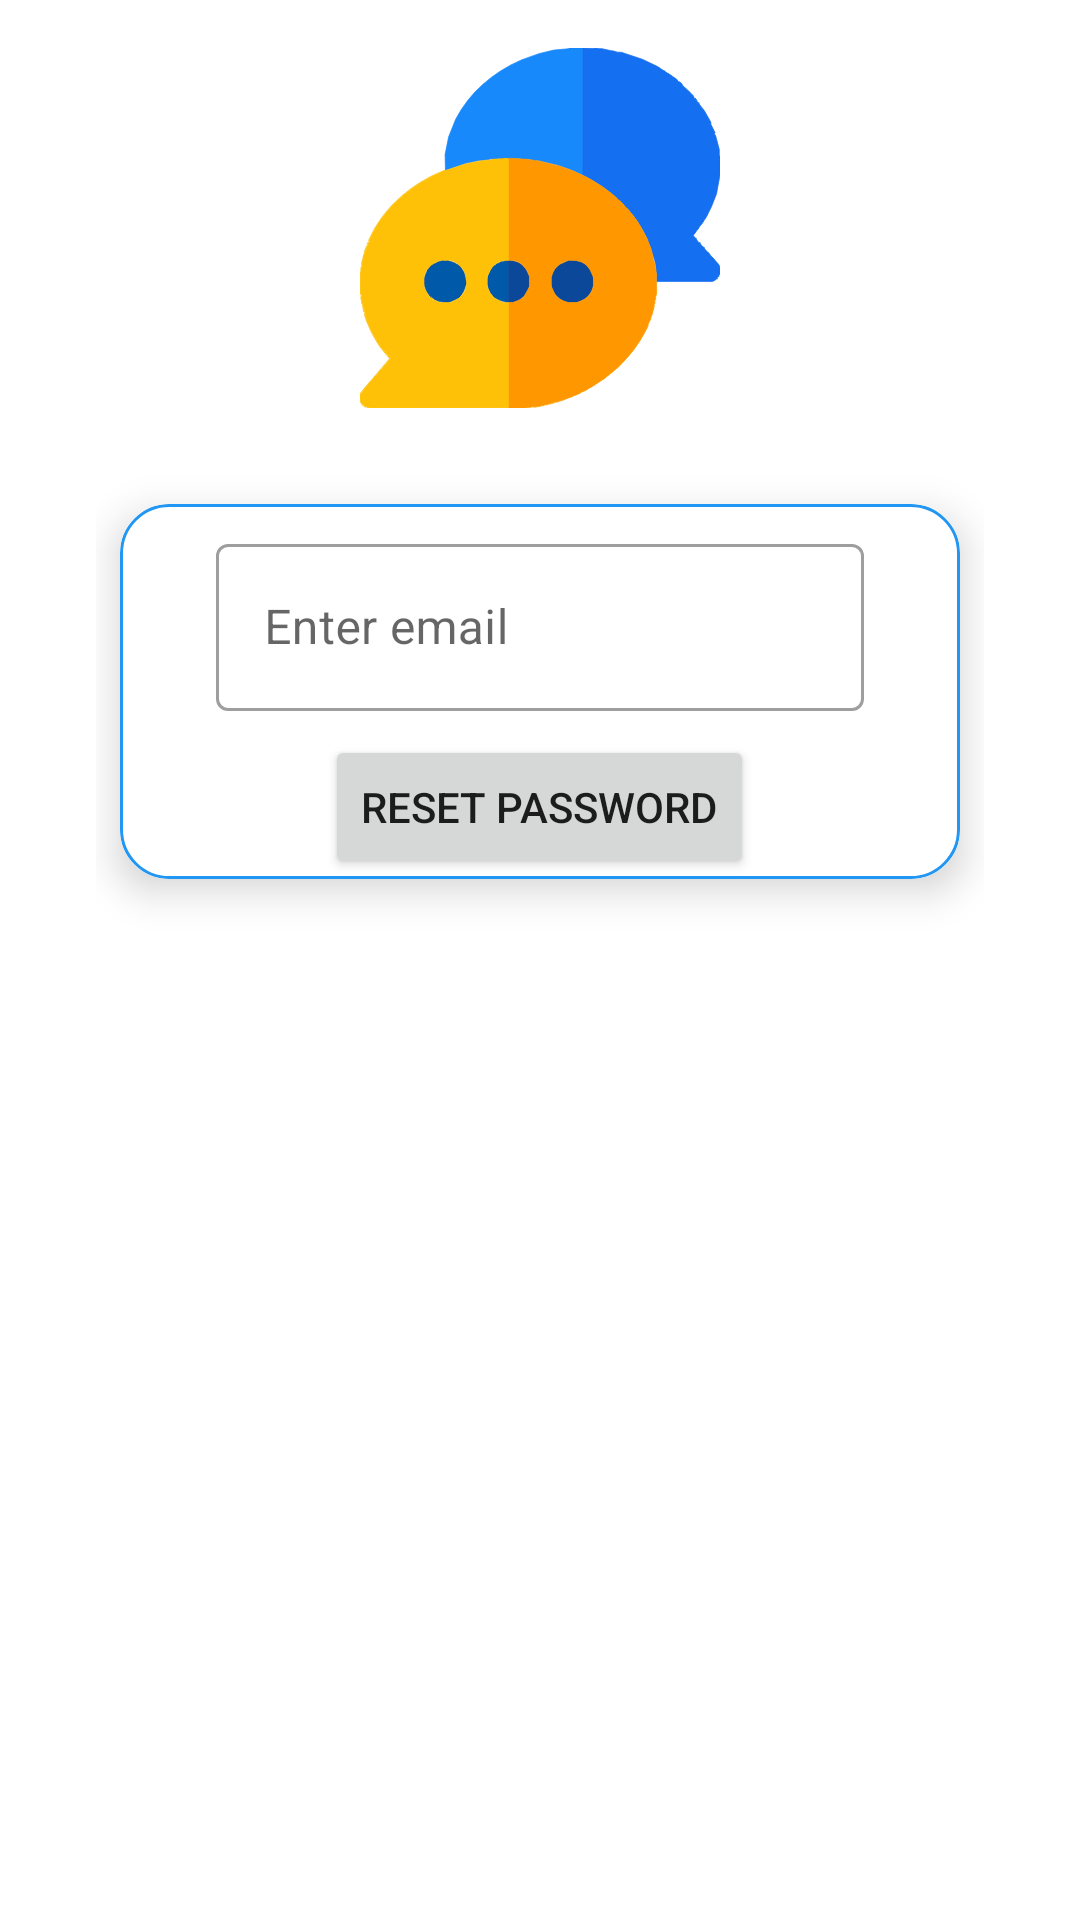

Screen size 1080px x 1920px. Icon name, then its center in pixels as (x=x, y=y):
chat: (x=540, y=228)
